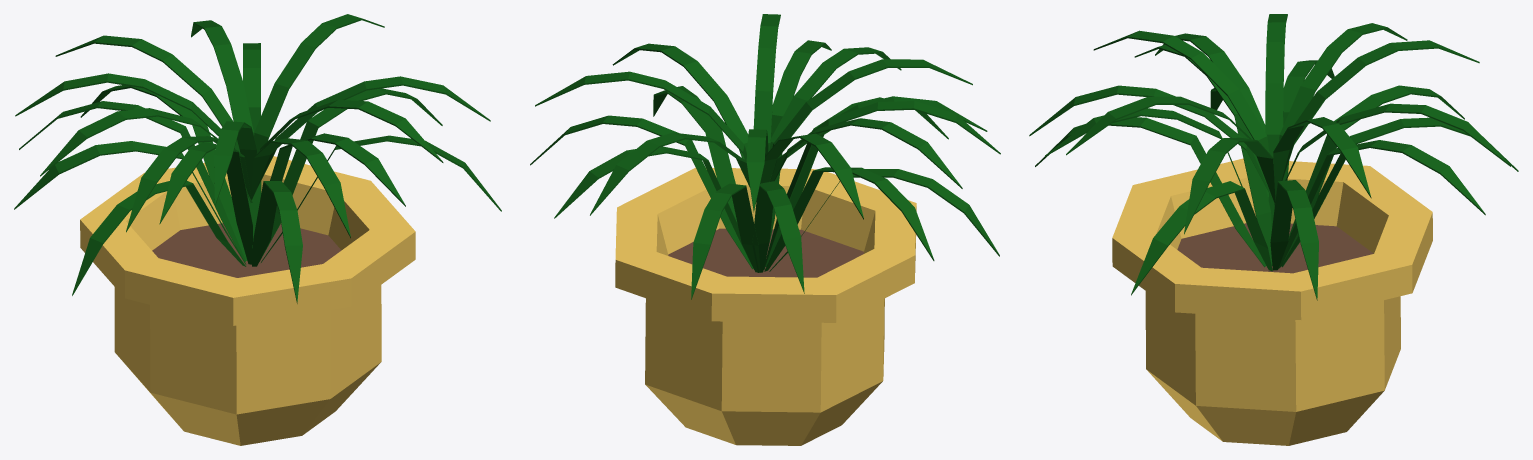
The model's file is Yogaroom_flower6.fbx.
3 renders of one model, left to right at view 1: azimuth 30°, elevation 25°; view 2: azimuth 150°, elevation 25°; view 3: azimuth 270°, elevation 25°, orthographic. The views are drawn at different scales.
Parts seen in each view (by area): view 1: Yogaroom_flower6; view 2: Yogaroom_flower6; view 3: Yogaroom_flower6.
Boxes of the visible parts, x1,y1,x2,y2 form: Yogaroom_flower6: [14, 14, 501, 445]; Yogaroom_flower6: [530, 14, 1000, 445]; Yogaroom_flower6: [1029, 14, 1518, 445].
Bounding box in the file's own units: 57.08 × 56.43 × 43.34.
